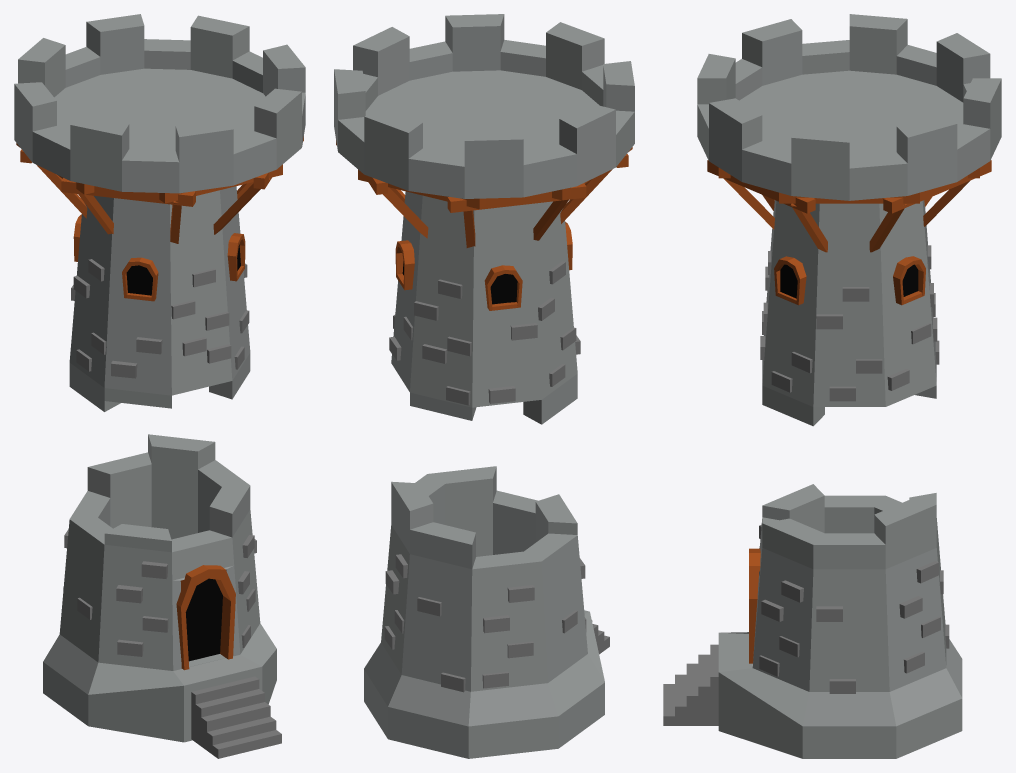
The model's file is Tower.fbx.
3 views of the same model, side by side, from view 1: azimuth 30°, elevation 25°; view 2: azimuth 150°, elevation 25°; view 3: azimuth 270°, elevation 25° (orthographic). The views are drawn at different scales.
Parts seen in each view (by area): view 1: Tower up, Tower down, stairs, wood, cubes up, cubes down, door, door shadow, windows, windows shadow; view 2: Tower up, Tower down, wood, cubes up, cubes down, windows, windows shadow; view 3: Tower up, Tower down, wood, cubes up, cubes down, stairs, windows, door, windows shadow.
Boxes of the visible parts, x1,y1,x2,y2 form: Tower up: [14, 14, 305, 411]; Tower down: [43, 434, 276, 742]; stairs: [191, 676, 281, 758]; wood: [16, 136, 303, 243]; cubes up: [71, 259, 249, 378]; cubes down: [63, 529, 256, 656]; door: [176, 565, 235, 670]; door shadow: [185, 578, 222, 661]; windows: [73, 214, 245, 301]; windows shadow: [126, 245, 240, 295]; Tower up: [334, 14, 634, 424]; Tower down: [364, 466, 604, 758]; wood: [336, 140, 632, 247]; cubes up: [389, 261, 580, 405]; cubes down: [384, 554, 586, 692]; windows: [395, 222, 572, 310]; windows shadow: [402, 261, 517, 304]; Tower up: [697, 14, 1001, 426]; Tower down: [718, 484, 962, 758]; wood: [707, 160, 991, 252]; cubes up: [760, 245, 939, 401]; cubes down: [759, 524, 949, 693]; stairs: [663, 644, 718, 725]; windows: [774, 256, 925, 305]; door: [749, 548, 760, 663]; windows shadow: [780, 264, 918, 298].
Bounding box in the file's own units: 557 × 1278 × 620.
